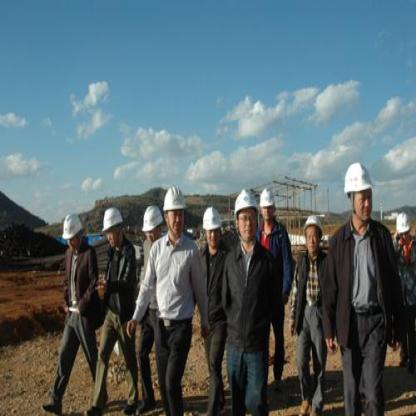helmet: (342, 160, 375, 224), (159, 183, 189, 238), (233, 184, 258, 249), (99, 206, 126, 250), (200, 205, 223, 252), (61, 210, 86, 253), (302, 212, 324, 258), (140, 205, 164, 246), (260, 186, 277, 225), (397, 207, 412, 245)
